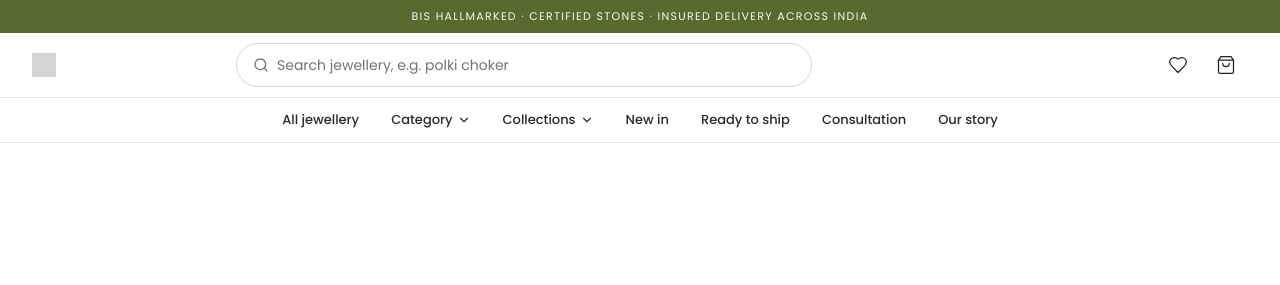
Header navigation menus (Category / Collections) › falls back to a browse link when no collection is published
Click the button "Collections" at x=548, y=120, box [503,110,594,129]
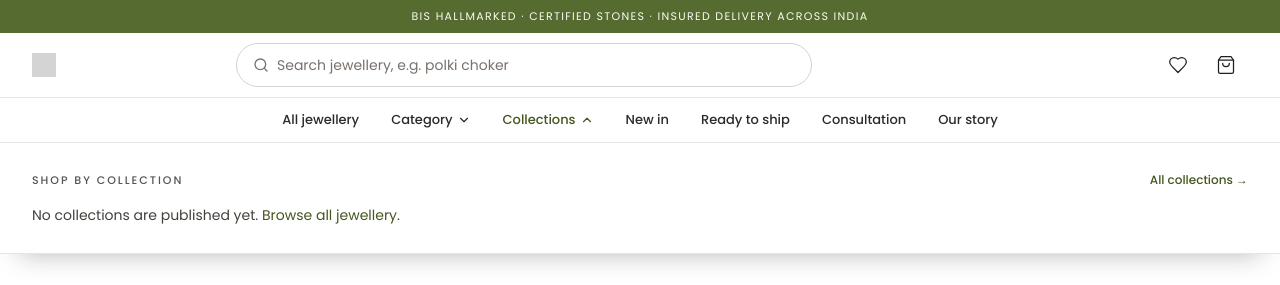
expect the text "No collections are published yet. Browse all jewellery ." is shown: met, box [32,204,400,224]
